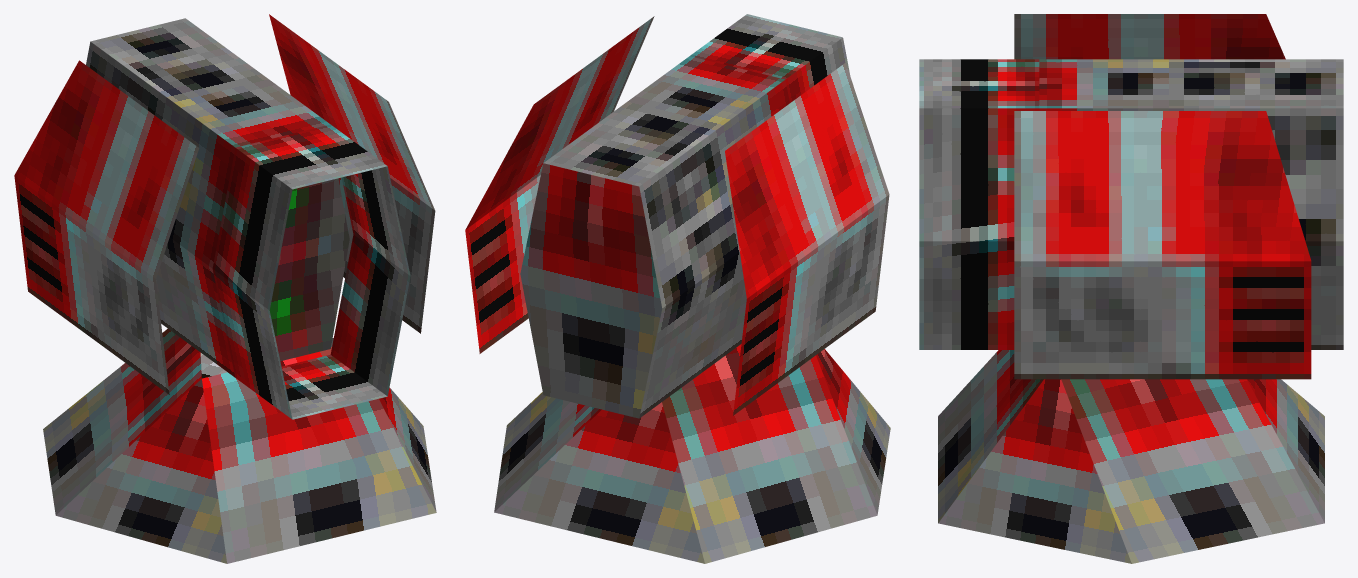
Rendered from turret-defense.glb.
3 renders of one model, left to right at view 1: azimuth 30°, elevation 25°; view 2: azimuth 150°, elevation 25°; view 3: azimuth 270°, elevation 25°, orthographic. The views are drawn at different scales.
Visible parts, largest first — view 1: turret-defense-hipoly_gun, turret-defense-hipoly_hull; view 2: turret-defense-hipoly_gun, turret-defense-hipoly_hull; view 3: turret-defense-hipoly_gun, turret-defense-hipoly_hull.
Part boxes in pixels (box(x1,y1,x2,y2)): turret-defense-hipoly_gun: box(14, 14, 435, 419); turret-defense-hipoly_hull: box(43, 328, 436, 563); turret-defense-hipoly_gun: box(465, 14, 889, 418); turret-defense-hipoly_hull: box(494, 344, 890, 563); turret-defense-hipoly_gun: box(919, 14, 1343, 379); turret-defense-hipoly_hull: box(938, 350, 1324, 563).
Bounding box in the file's own units: 0.9434 × 0.9492 × 0.8984.
Materials: 2 (2 with a texture image).
